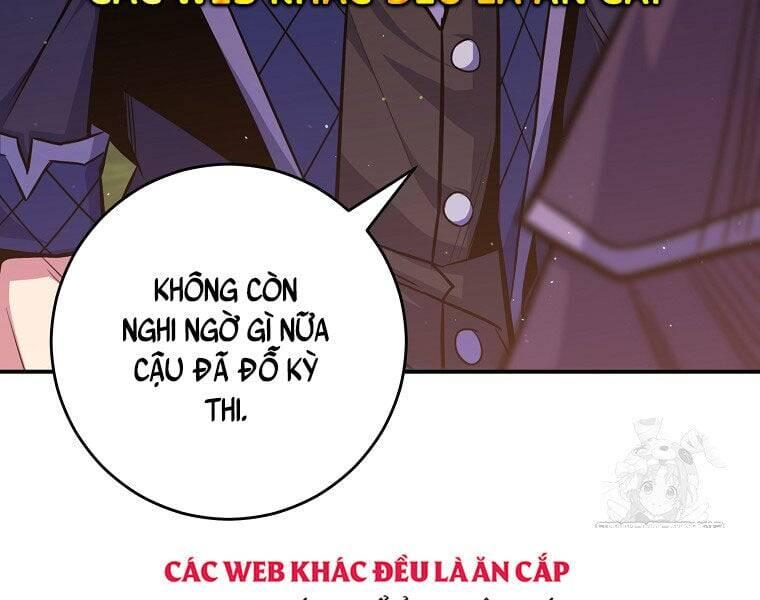quangcao: (159, 554, 576, 600)
